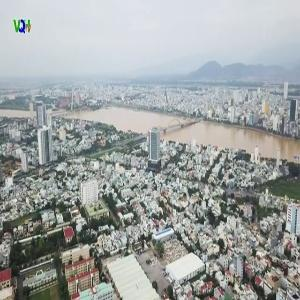drone: (195, 196, 234, 235)
